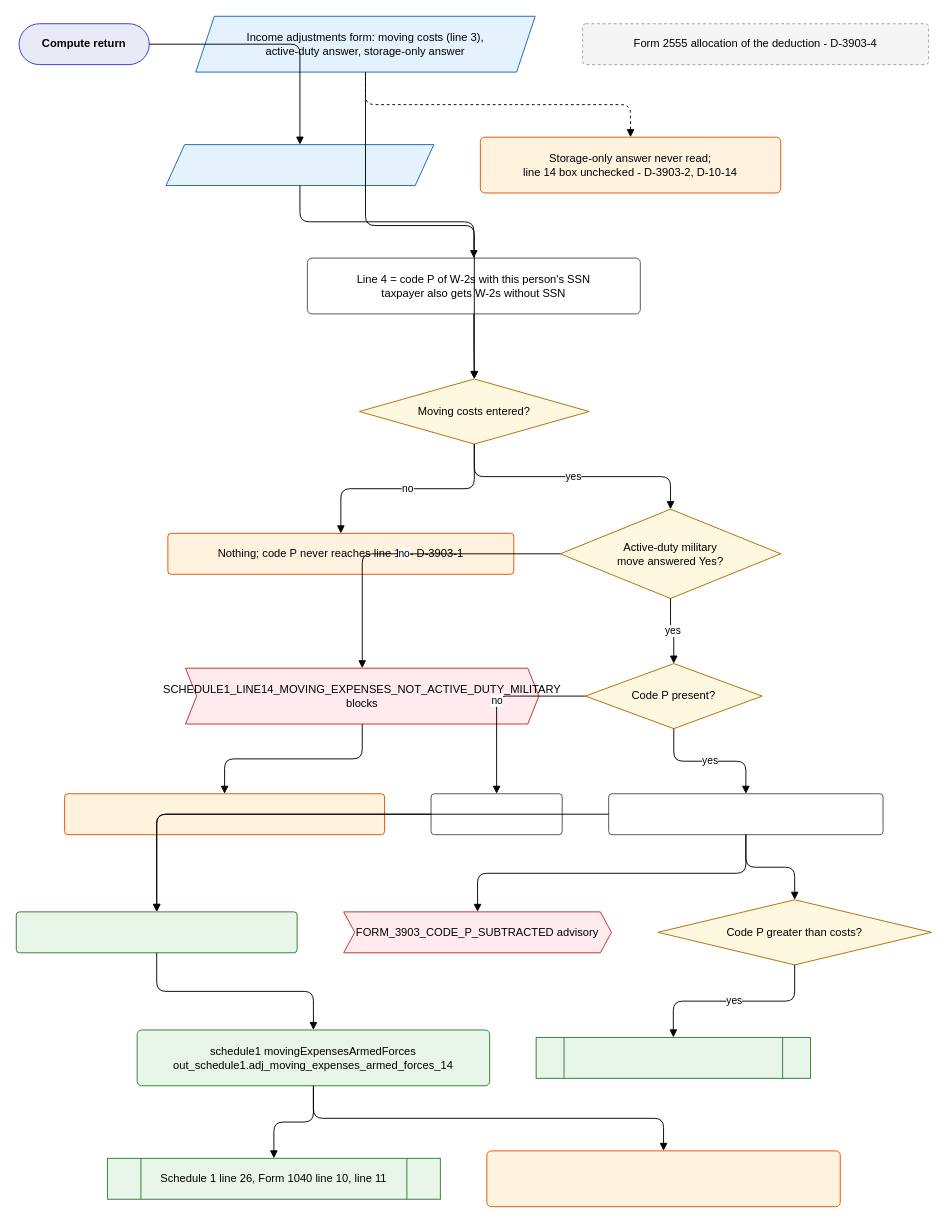
Image size: 948x1223. Some labels were removed from this diagram. Each missing label, with the box of its shape:
Amount dropped; no line 1h either - D-3903-1: (64, 793, 385, 835)
Attach-Form-3903 marker only; preview blank - D-3903-3: (486, 1150, 840, 1207)
Form 1040 line 1h: code P minus costs: (535, 1036, 810, 1078)
Line 14 = costs: (430, 793, 562, 835)
Line 14 = costs minus code P, floor 0: (608, 793, 883, 835)
Schedule 1 line 14 = taxpayer + spouse: (15, 911, 297, 953)
W-2 statements: box a, box 12 code P: (165, 144, 434, 186)
